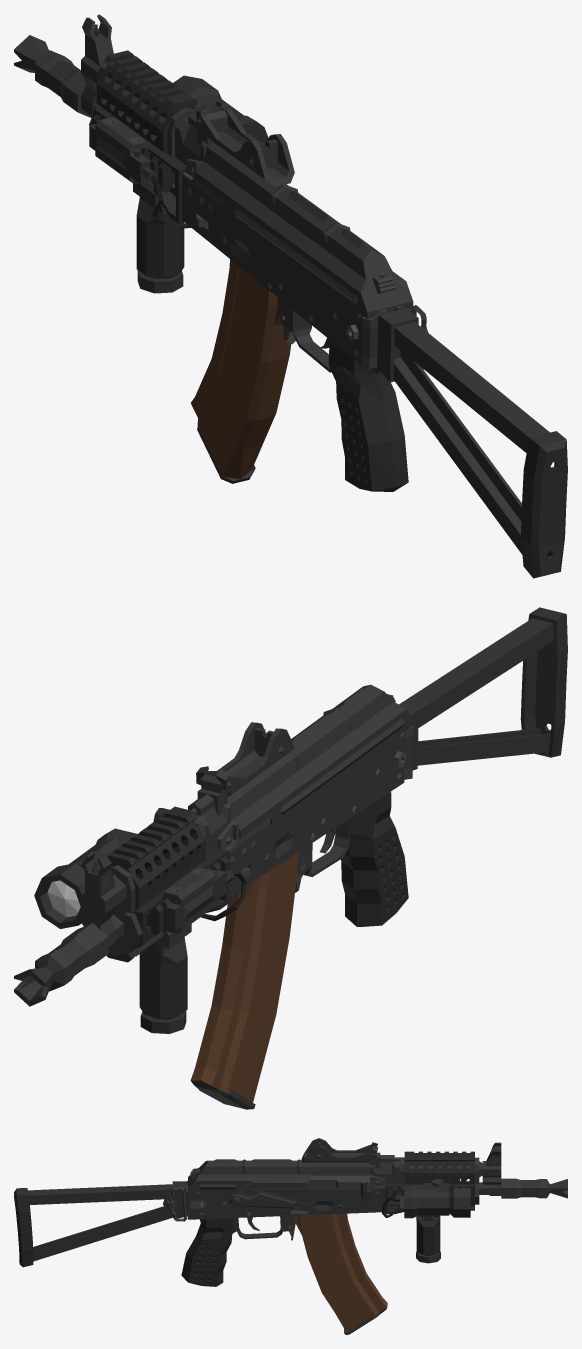
Rendered from weapon.glb.
The picture shows the model from 3 angles, top to bottom: view 1: azimuth 30°, elevation 25°; view 2: azimuth 150°, elevation 25°; view 3: azimuth 270°, elevation 25°; orthographic projection. The views are drawn at different scales.
Visible parts, largest first — view 1: aks74un_foldingstock_15, aks74un_dust_cover_10, aks74un_bmag_14, aks74un_reciever_6, zenit_rk3_2, zenit_b19_1, aks74un_barrelassembly_13, zenit_klesch_2d_4, zenit_rk5_3, zenit_b11_0, aks74un_rsb_16, aks74un_trunnion_front_8 (+1 smaller); view 2: aks74un_bmag_14, aks74un_dust_cover_10, aks74un_foldingstock_15, aks74un_reciever_6, aks74un_barrelassembly_13, zenit_klesch_2d_4, zenit_rk3_2, zenit_b19_1, zenit_rk5_3, zenit_b11_0, aks74un_rsb_16, aks74un_trunnion_front_8; view 3: aks74un_foldingstock_15, aks74un_bmag_14, aks74un_dust_cover_10, aks74un_reciever_6, aks74un_barrelassembly_13, zenit_rk3_2, zenit_klesch_2d_4, zenit_b19_1, zenit_rk5_3, aks74un_fire_selector_9, aks74un_boltcarrier_12, zenit_b11_0 (+1 smaller).
Part boxes in pixels (x1,y1,x2,y2): aks74un_foldingstock_15: [361, 305, 567, 578]; aks74un_dust_cover_10: [194, 102, 413, 319]; aks74un_bmag_14: [191, 259, 291, 483]; aks74un_reciever_6: [182, 177, 411, 372]; zenit_rk3_2: [328, 340, 408, 491]; zenit_b19_1: [96, 50, 198, 154]; aks74un_barrelassembly_13: [14, 14, 196, 156]; zenit_klesch_2d_4: [89, 75, 268, 228]; zenit_rk5_3: [133, 182, 184, 293]; zenit_b11_0: [92, 106, 185, 223]; aks74un_rsb_16: [175, 110, 227, 164]; aks74un_trunnion_front_8: [182, 159, 226, 244]; aks74un_bmag_14: [190, 852, 298, 1109]; aks74un_dust_cover_10: [196, 684, 413, 837]; aks74un_foldingstock_15: [399, 607, 567, 770]; aks74un_reciever_6: [228, 731, 405, 897]; aks74un_barrelassembly_13: [14, 818, 205, 1006]; zenit_klesch_2d_4: [34, 828, 246, 933]; zenit_rk3_2: [340, 791, 408, 926]; zenit_b19_1: [107, 806, 205, 910]; zenit_rk5_3: [139, 924, 191, 1033]; zenit_b11_0: [106, 848, 229, 962]; aks74un_rsb_16: [188, 774, 231, 855]; aks74un_trunnion_front_8: [217, 818, 270, 880]; aks74un_foldingstock_15: [14, 1181, 187, 1267]; aks74un_bmag_14: [294, 1213, 387, 1334]; aks74un_dust_cover_10: [188, 1138, 377, 1192]; aks74un_reciever_6: [186, 1184, 384, 1240]; aks74un_barrelassembly_13: [400, 1142, 567, 1204]; zenit_rk3_2: [181, 1218, 238, 1286]; zenit_klesch_2d_4: [382, 1178, 470, 1218]; zenit_b19_1: [404, 1151, 474, 1184]; zenit_rk5_3: [416, 1215, 440, 1263]; aks74un_fire_selector_9: [228, 1190, 309, 1214]; aks74un_boltcarrier_12: [305, 1169, 369, 1188]; zenit_b11_0: [385, 1176, 474, 1214].
Bounding box in the file's own units: 0.5627 × 1.46 × 3.83.
1 material, 1 textured.
